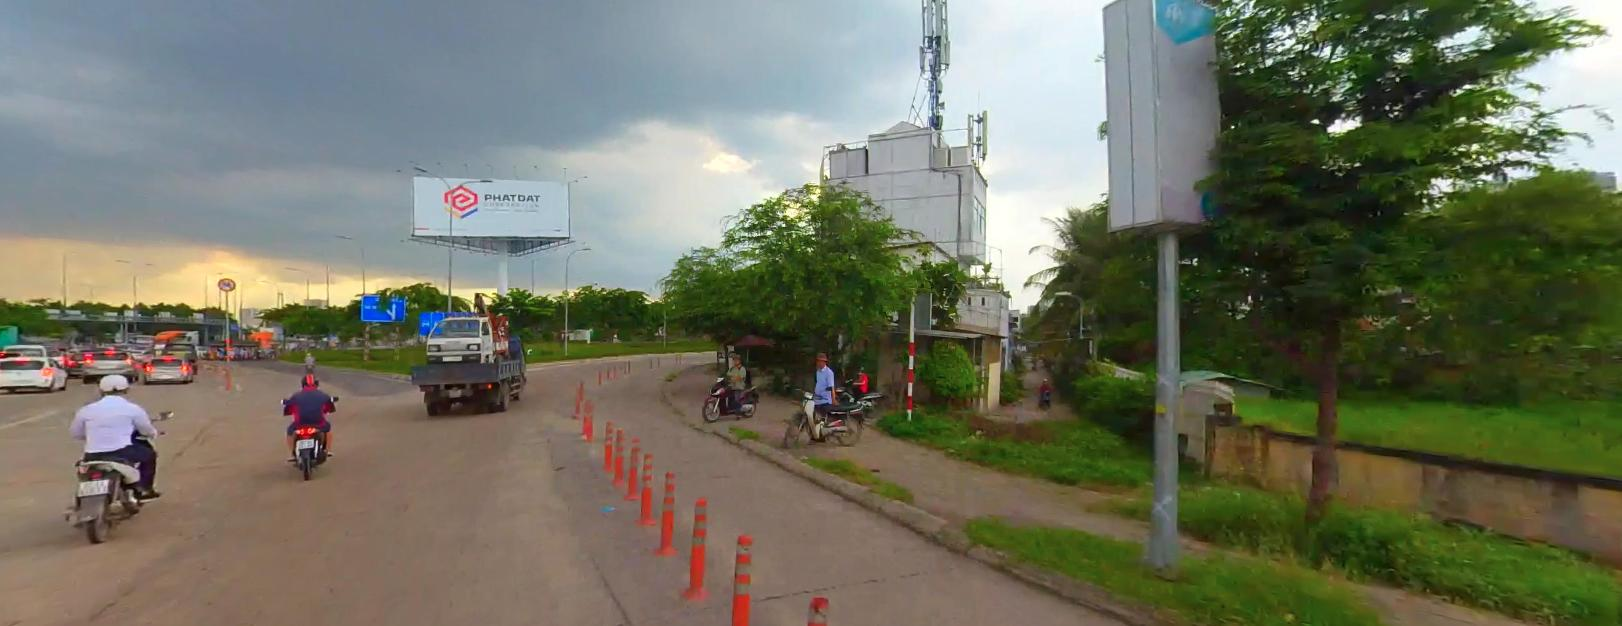Cam con lai: (217, 276, 236, 291)
